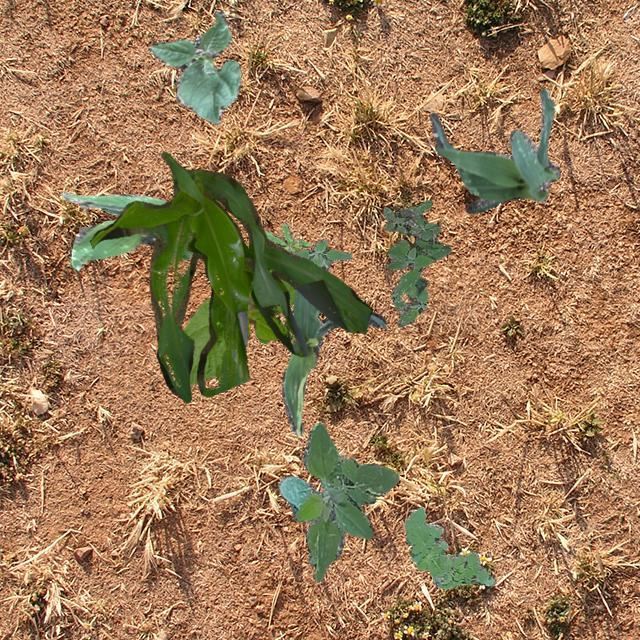crop: (88, 150, 372, 402), (276, 422, 398, 580), (282, 256, 386, 436), (428, 86, 558, 212), (174, 276, 296, 386), (147, 10, 240, 124), (61, 190, 190, 270)
weed: (382, 198, 450, 326), (404, 506, 494, 588), (292, 238, 352, 266), (262, 222, 310, 252)
